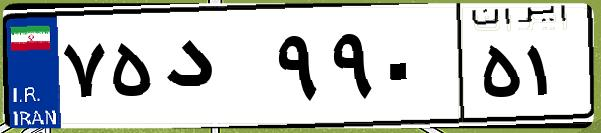0: (385, 28, 445, 110)
1: (525, 38, 570, 115)
5: (475, 38, 525, 113), (110, 28, 158, 98)
7: (57, 26, 110, 100)
9: (270, 28, 330, 110), (330, 28, 385, 110)
د: (158, 20, 270, 120)
